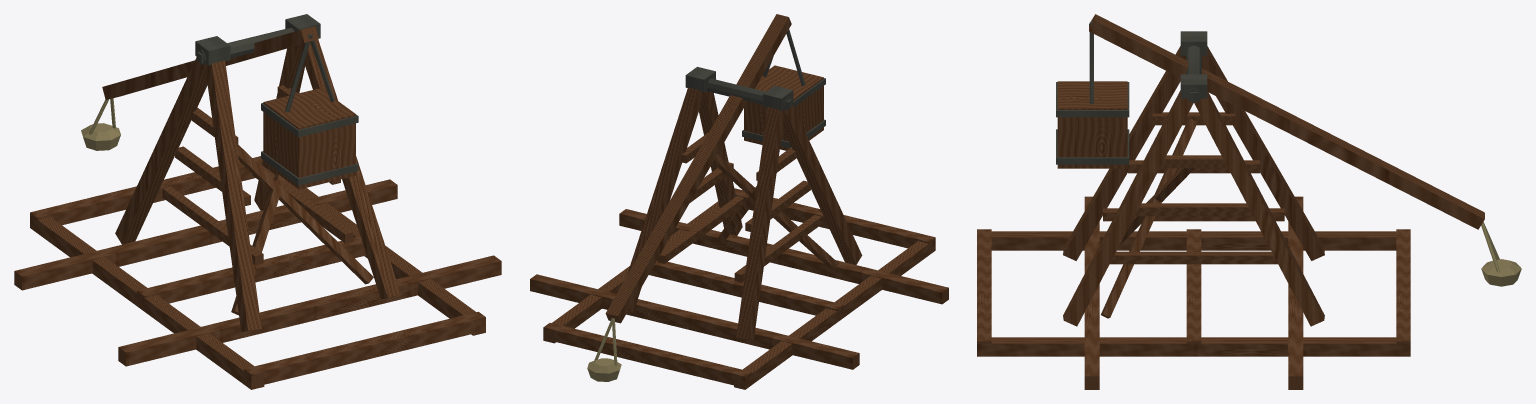
Rendered from trebuchet.glb.
3 renders of one model, left to right at view 1: azimuth 30°, elevation 25°; view 2: azimuth 150°, elevation 25°; view 3: azimuth 270°, elevation 25°, orthographic. The views are drawn at different scales.
Parts seen in each view (by area): view 1: frame, turntable, arm; view 2: frame, turntable, arm; view 3: turntable, frame, arm.
Part boxes in pixels (x1=…): frame: x1=14, y1=156, x2=501, y2=389; turntable: x1=115, y1=14, x2=400, y2=331; arm: x1=81, y1=26, x2=358, y2=189; frame: x1=530, y1=188, x2=948, y2=389; turntable: x1=627, y1=66, x2=862, y2=339; arm: x1=587, y1=14, x2=825, y2=381; turntable: x1=1063, y1=31, x2=1324, y2=326; frame: x1=977, y1=196, x2=1410, y2=389; arm: x1=1056, y1=14, x2=1521, y2=286.
Size of the model in its own units: 9.6 by 7.06 by 12.31.
Materials: 1 (1 with a texture image).
